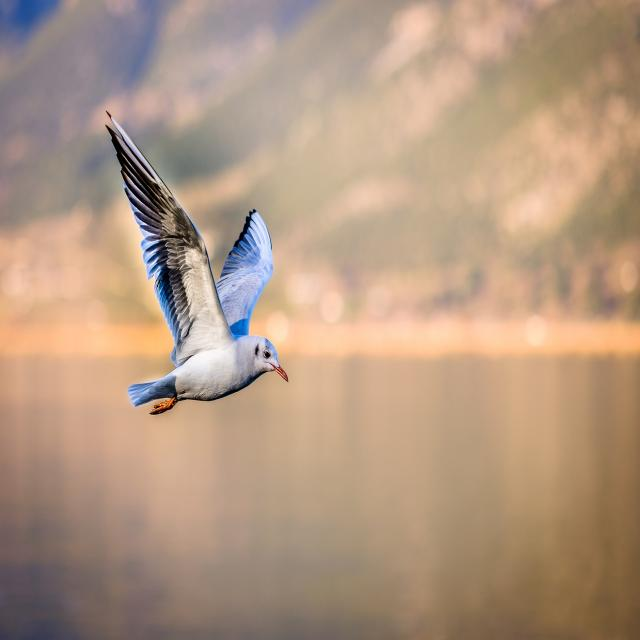birds: (93, 98, 300, 430)
